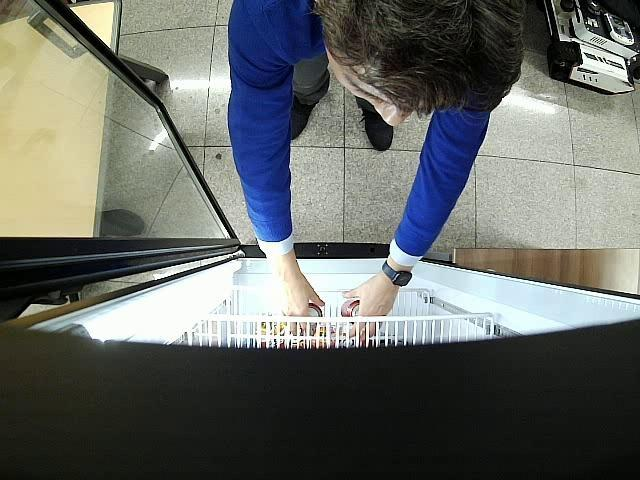11_cocaColaZero: (308, 302, 322, 329), (340, 299, 360, 317)
